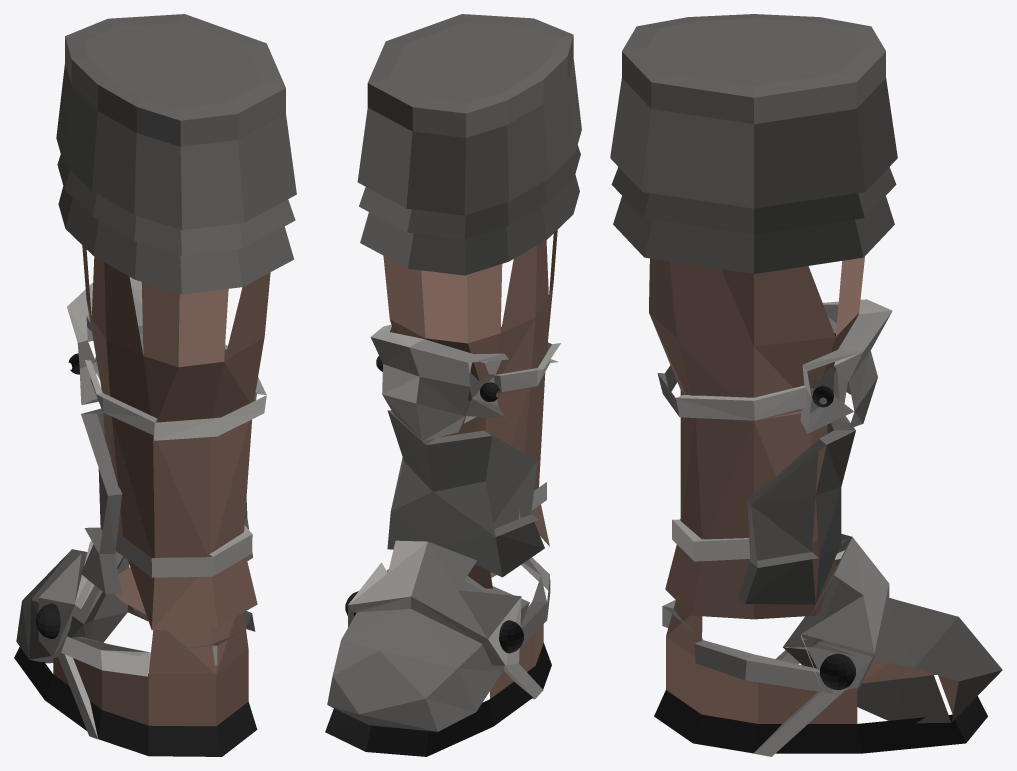
File: greave_leather.glb
The picture shows the model from 3 angles, left to right: view 1: azimuth 30°, elevation 25°; view 2: azimuth 150°, elevation 25°; view 3: azimuth 270°, elevation 25°; orthographic projection. The views are drawn at different scales.
Parts seen in each view (by area): view 1: group170041505; view 2: group170041505; view 3: group170041505.
Part boxes in pixels (bbox=[...]): group170041505: bbox=[14, 14, 296, 756]; group170041505: bbox=[325, 14, 581, 756]; group170041505: bbox=[610, 14, 1002, 756].
Size of the model in its own units: 0.1413 by 0.4534 by 0.2408.
